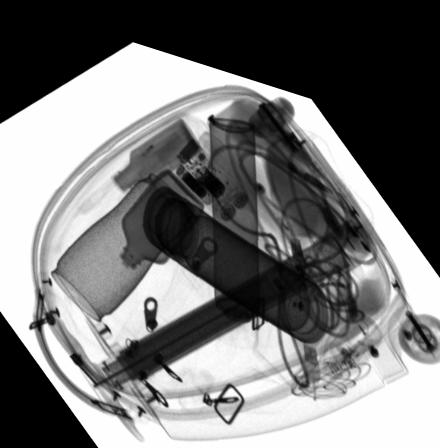Sprayer: (209, 103, 258, 334)
